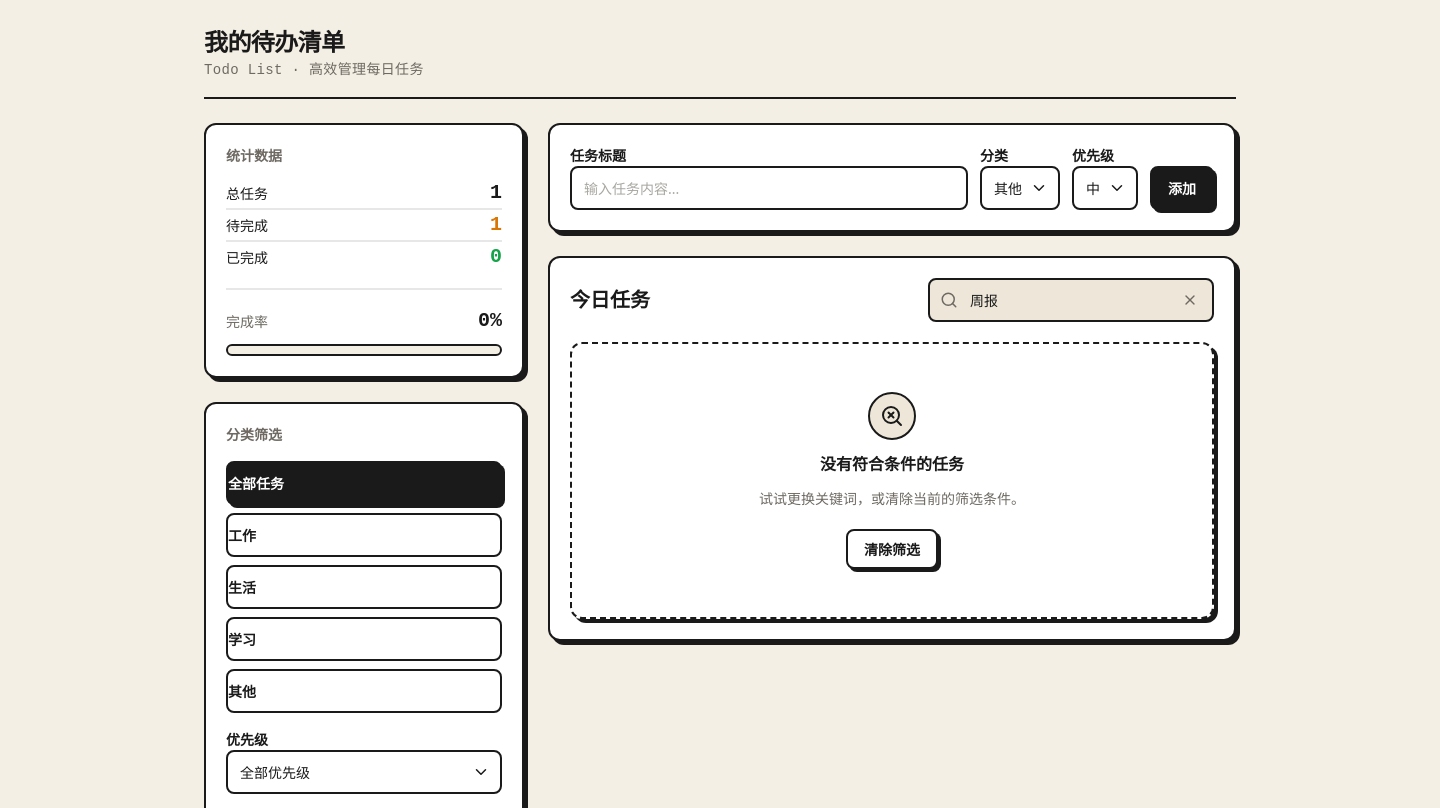
it: 空状态 › 无匹配：有关键词但结果为空，给出清除筛选引导
Check: the text "没有符合条件的任务" is shown, box x1=820 y1=452 x2=964 y2=476
Step 1. Click the button "清除筛选" → click(892, 549), box x1=846 y1=529 x2=938 y2=569
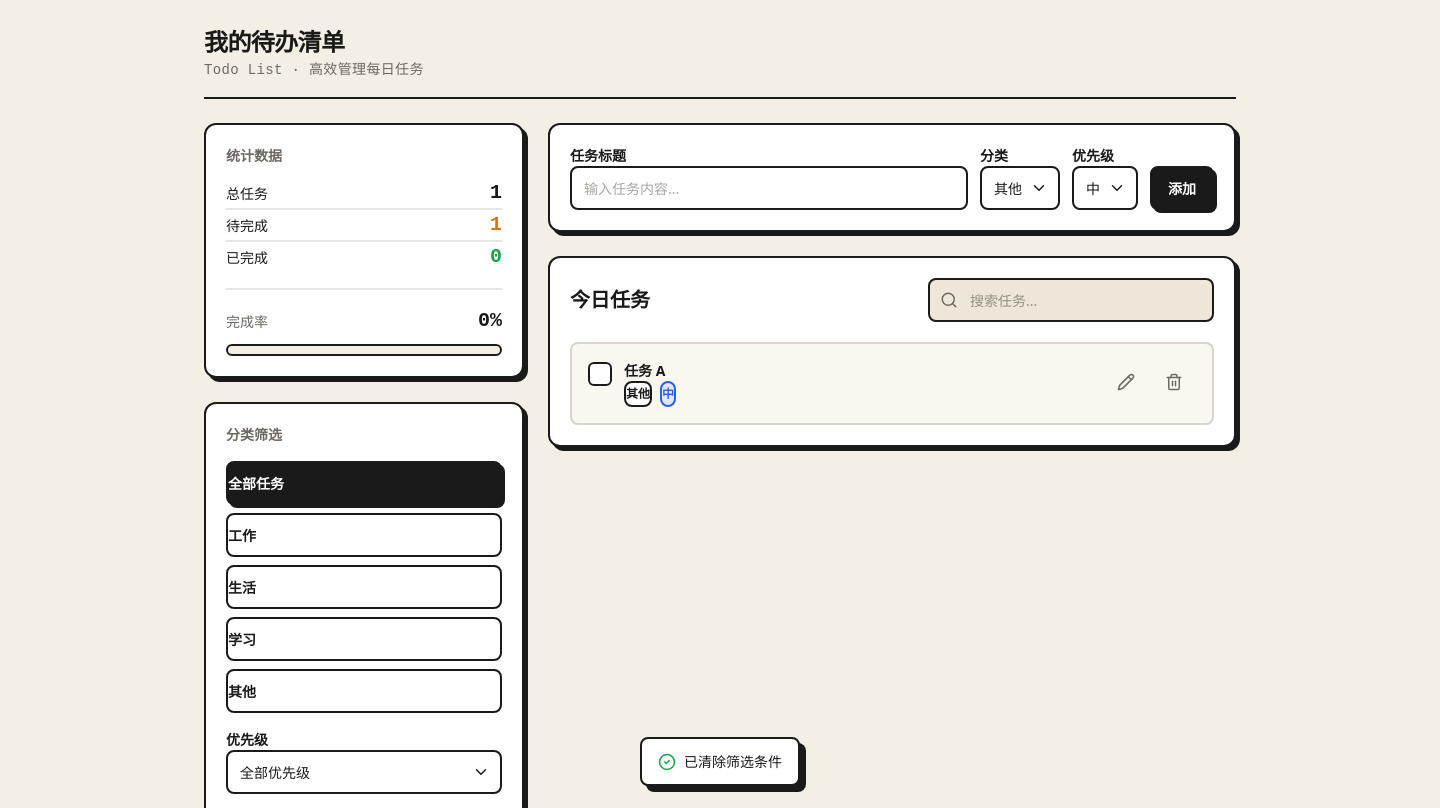
Check: the message reads "已清除筛选条件", box x1=684 y1=752 x2=782 y2=771
Check: the text "任务 A" is shown, box x1=624 y1=361 x2=665 y2=380
